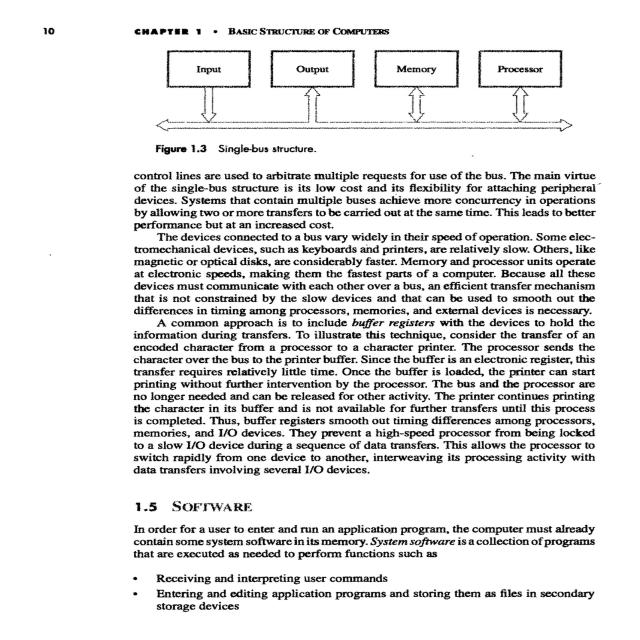diagram: (138, 38, 606, 160)
